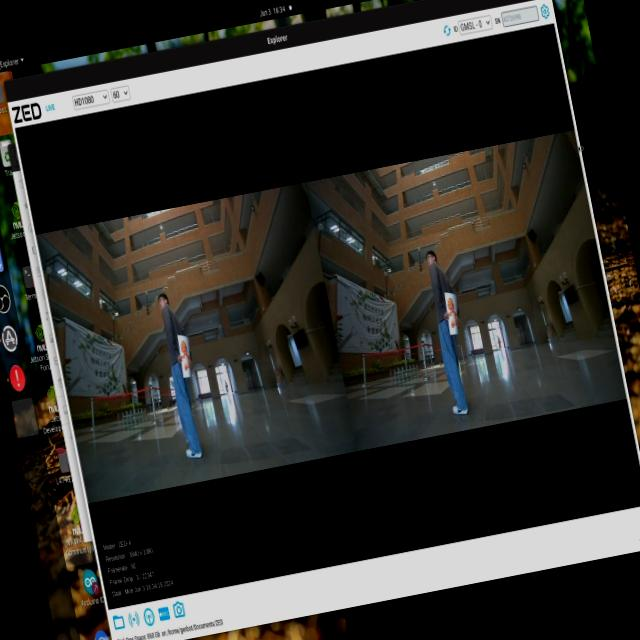red: (174, 340, 197, 380), (444, 295, 463, 338)
